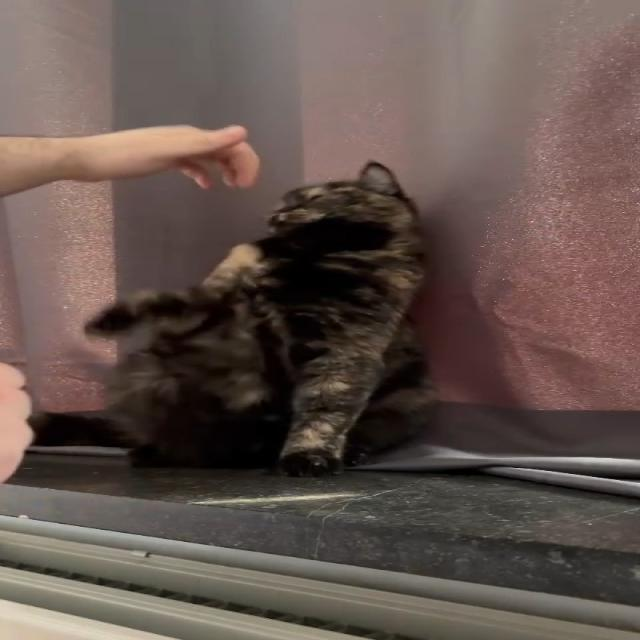authorized: (33, 159, 439, 478)
